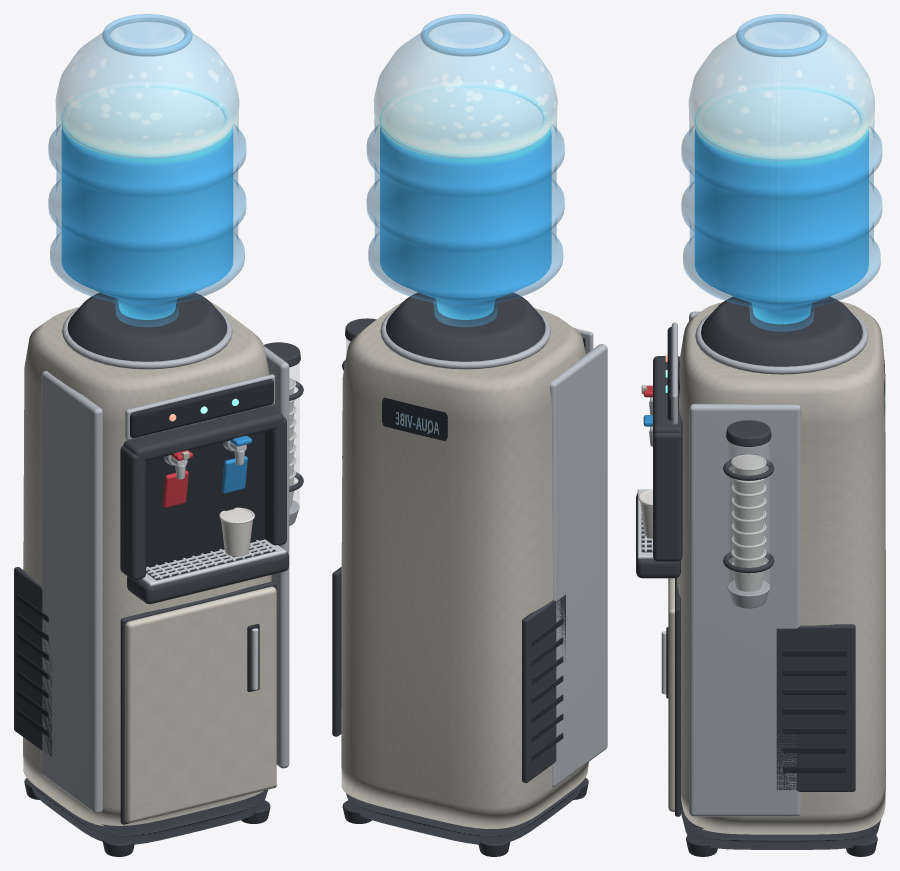
File: prop_water_cooler.glb
3 views of the same model, side by side, from view 1: azimuth 30°, elevation 25°; view 2: azimuth 150°, elevation 25°; view 3: azimuth 270°, elevation 25° (orthographic).
Visible parts, largest first — view 1: prop_water_cooler; view 2: prop_water_cooler; view 3: prop_water_cooler.
Boxes of the visible parts, left/top/right/bottom form: prop_water_cooler: left=14, top=14, right=303, bottom=856; prop_water_cooler: left=332, top=14, right=607, bottom=856; prop_water_cooler: left=636, top=14, right=885, bottom=856.
Size of the model in its own units: 0.5415 by 1.7 by 0.49.
15 materials, 2 textured.
